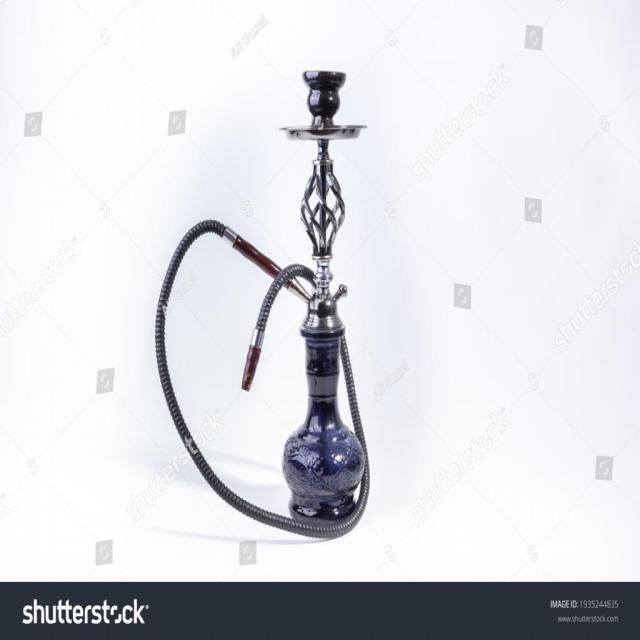smoking: (152, 70, 370, 542)
